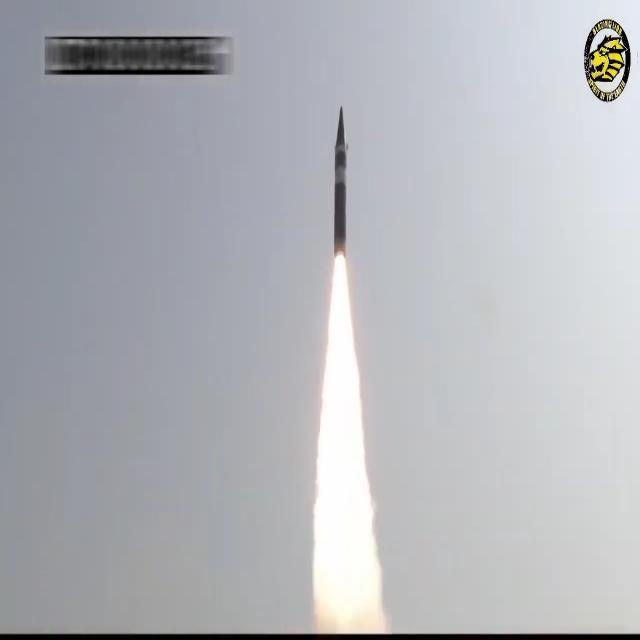Missile: (326, 90, 354, 274)
